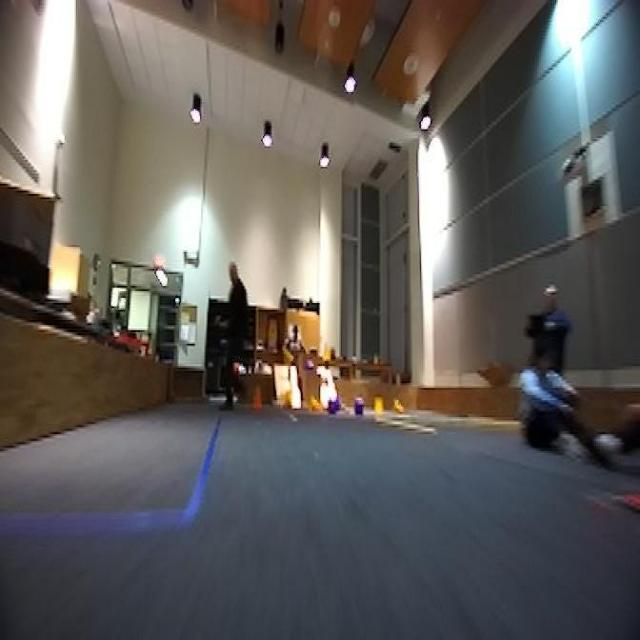frc_cone: (282, 343, 295, 368), (309, 394, 323, 416), (392, 398, 407, 416), (373, 394, 384, 416), (280, 388, 292, 407)
frc_cube: (329, 393, 340, 414), (353, 398, 365, 416)
